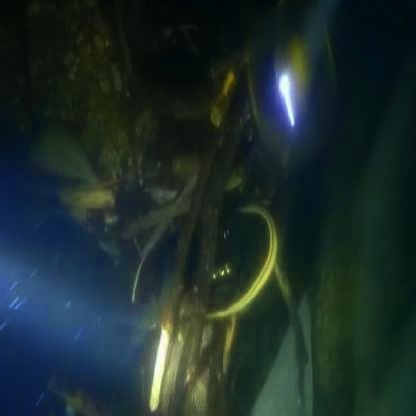misc: (122, 128, 280, 322)
